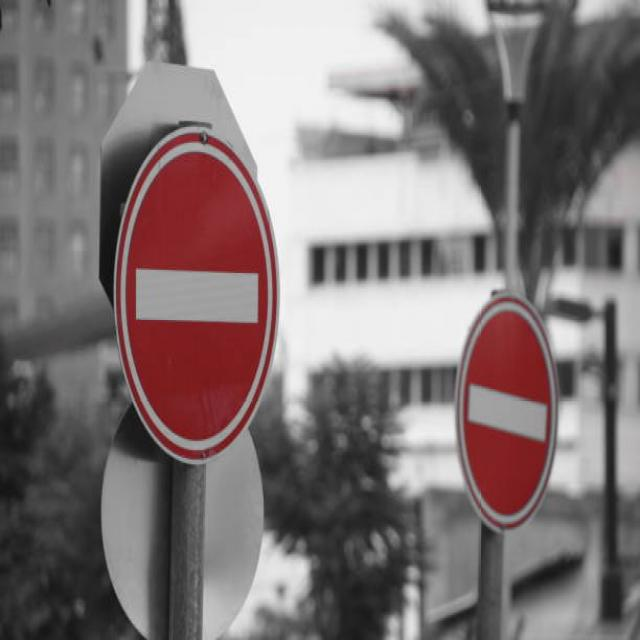do_not_enter: (106, 124, 291, 470), (448, 286, 575, 554)
